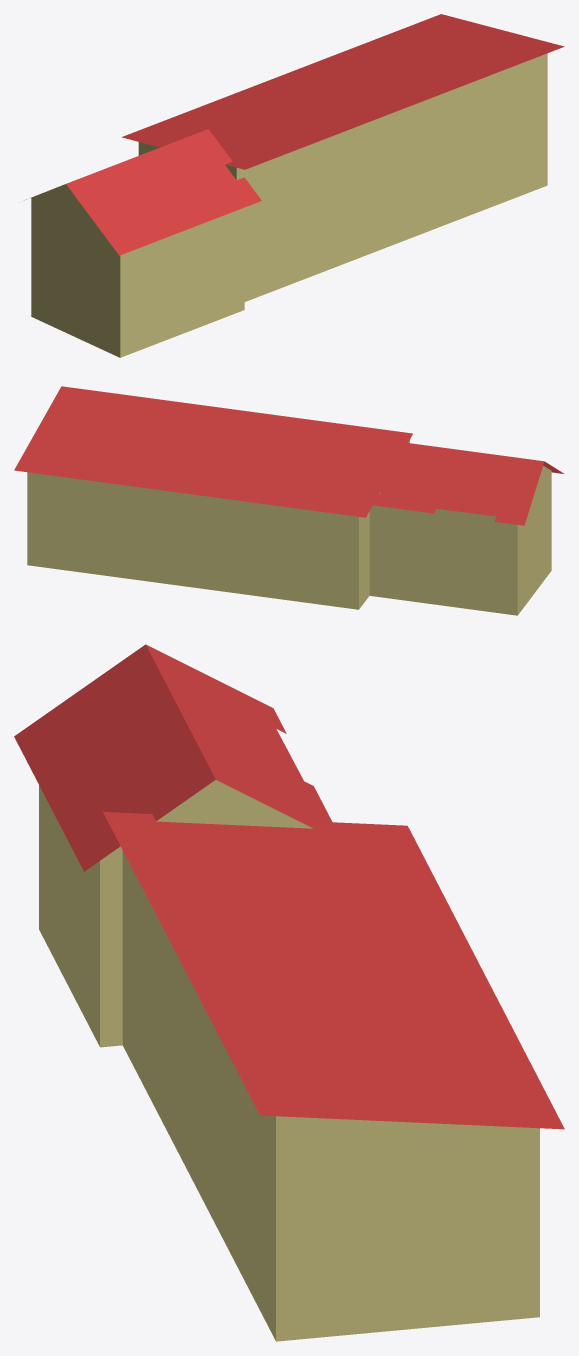
3 renders of one model, top to bottom at view 1: azimuth 30°, elevation 25°; view 2: azimuth 150°, elevation 25°; view 3: azimuth 270°, elevation 25°, orthographic. The views are drawn at different scales.
Bounding box in the file's own units: 38.32 × 19.68 × 10.49.
